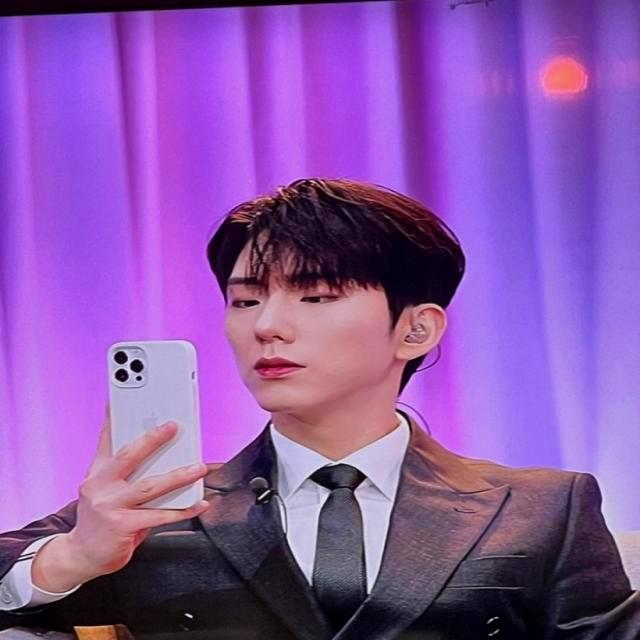lens: (109, 344, 146, 384)
phone: (103, 335, 205, 511)
